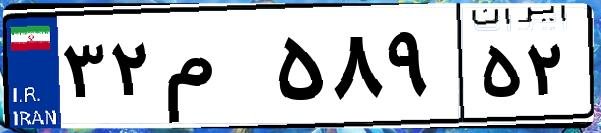2: (525, 38, 570, 115), (110, 28, 158, 98)
3: (57, 26, 110, 100)
5: (270, 28, 330, 110), (475, 38, 525, 113)
8: (330, 28, 385, 110)
9: (385, 28, 445, 110)
م: (158, 20, 270, 120)
